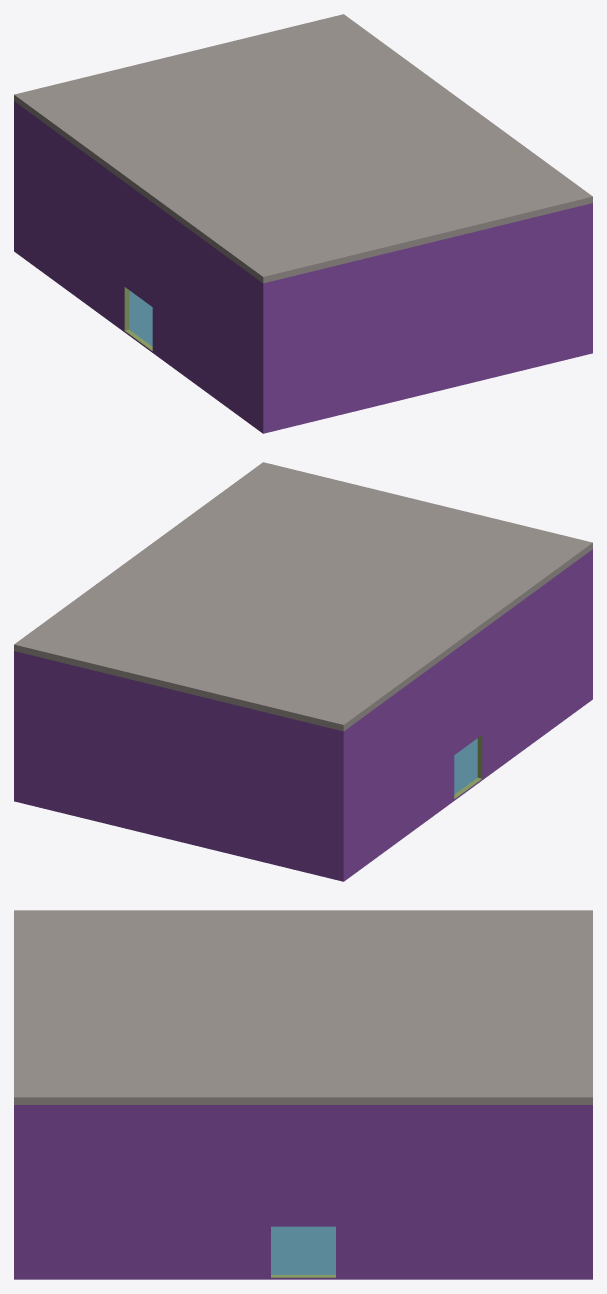
Rendered from OfficeGlass.fbx.
The picture shows the model from 3 angles, top to bottom: view 1: azimuth 30°, elevation 25°; view 2: azimuth 150°, elevation 25°; view 3: azimuth 270°, elevation 25°; orthographic projection. The views are drawn at different scales.
Parts seen in each view (by area): view 1: polySurface50; view 2: polySurface50; view 3: polySurface50.
Part boxes in pixels (<box>): polySurface50: <box>14,14,592,433</box>; polySurface50: <box>14,462,592,881</box>; polySurface50: <box>14,910,592,1279</box>.
Bounding box in the file's own units: 64.79 × 29.5 × 84.79.
